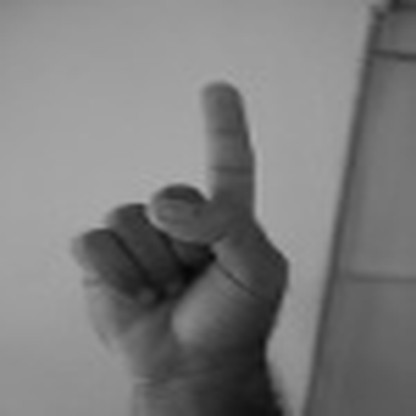d: (70, 83, 292, 367)
